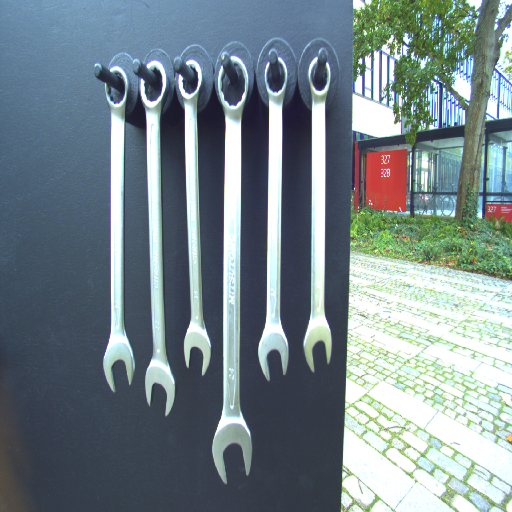bottom: (208, 411, 255, 485), (256, 321, 290, 382), (101, 338, 138, 394), (144, 360, 178, 419), (301, 320, 335, 372), (182, 322, 213, 379)
top: (214, 53, 251, 116), (140, 58, 168, 115), (263, 53, 291, 106), (176, 58, 205, 107), (306, 53, 334, 101), (101, 66, 131, 110)
